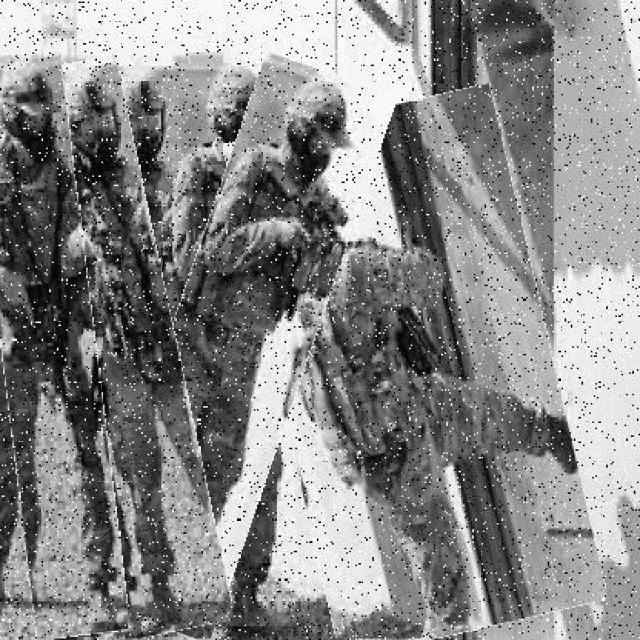Person: (252, 95, 583, 639), (126, 56, 355, 640), (35, 58, 206, 638), (1, 51, 113, 639)
